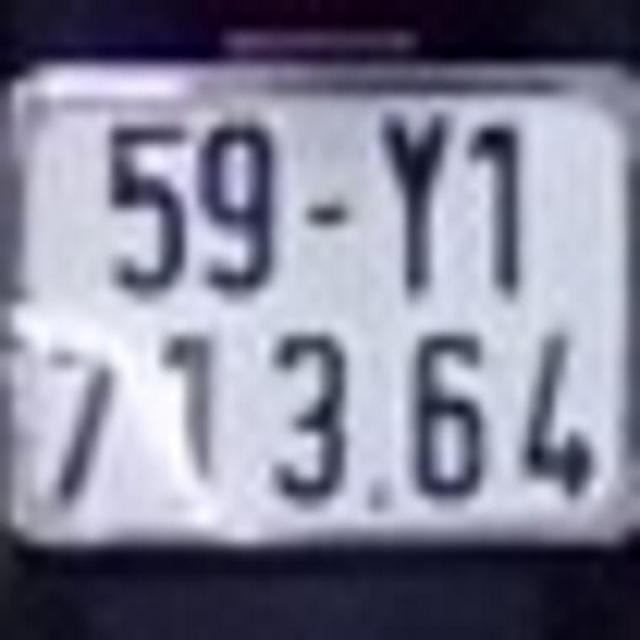1: (160, 321, 220, 505), (463, 108, 524, 286)
3: (264, 307, 346, 504)
4: (520, 328, 594, 502)
5: (102, 112, 188, 301)
6: (414, 313, 488, 506)
7: (36, 332, 126, 511)
9: (192, 116, 276, 295)
Y: (375, 98, 453, 301)
